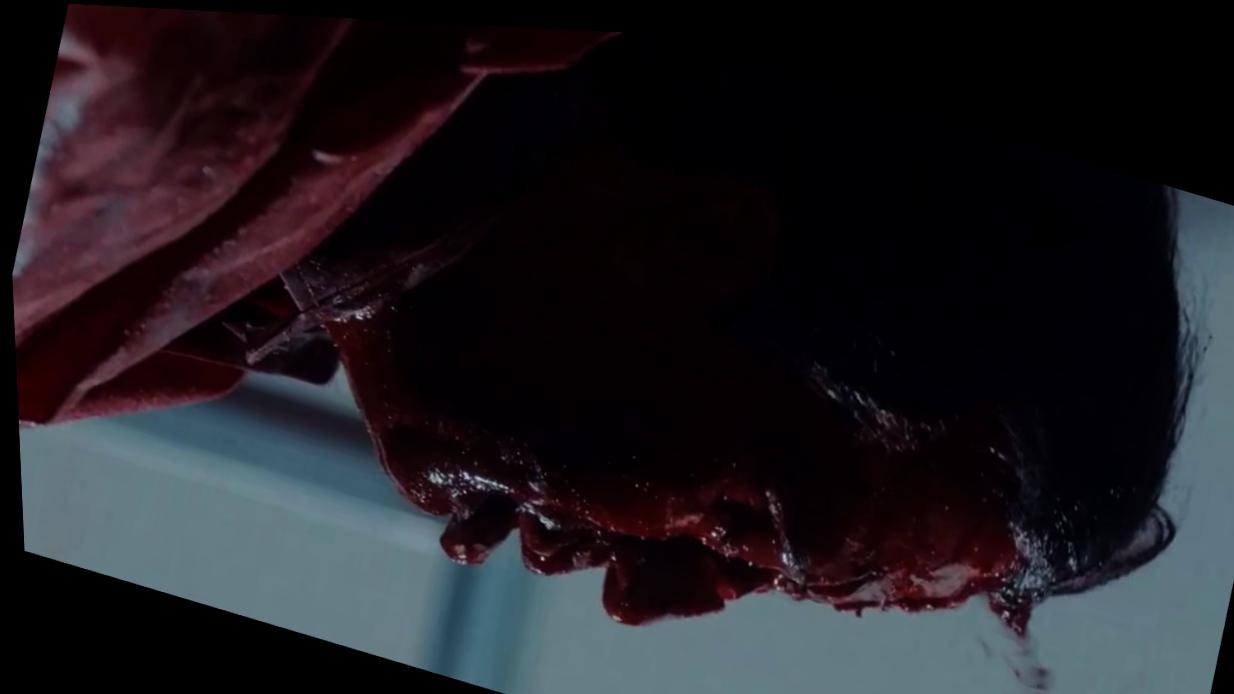Fire: (9, 3, 1213, 694)
